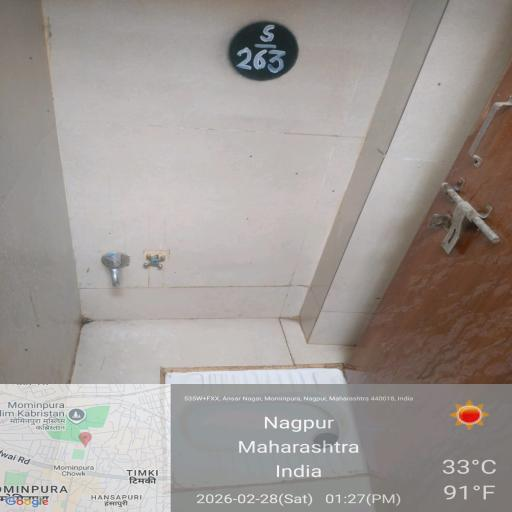clean_floor: (4, 0, 505, 287), (144, 293, 354, 362)
partial_dirty_floor: (61, 302, 99, 384)
